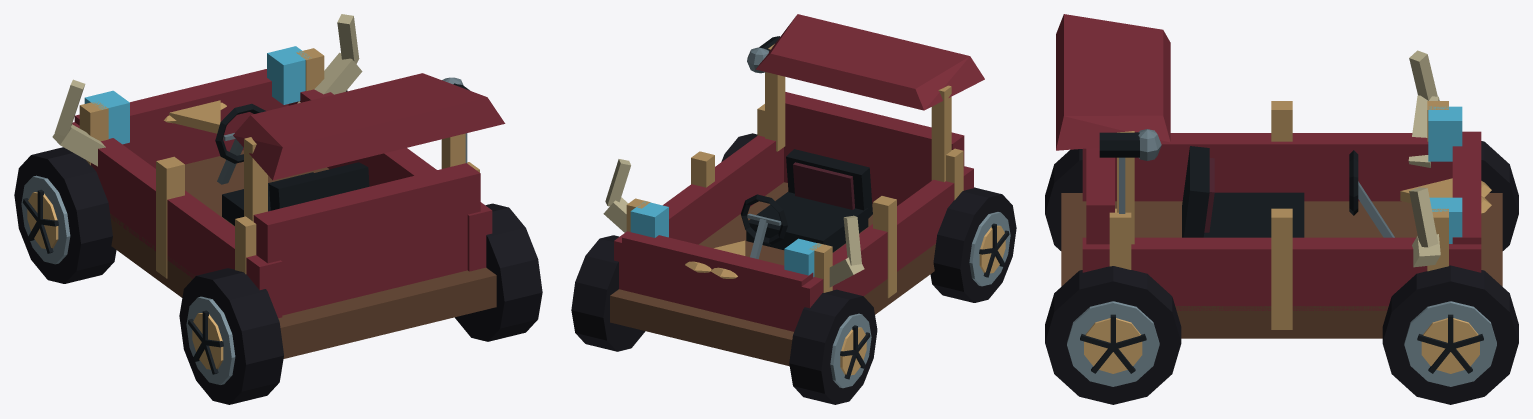
Rendered from kart.glb.
3 renders of one model, left to right at view 1: azimuth 30°, elevation 25°; view 2: azimuth 150°, elevation 25°; view 3: azimuth 270°, elevation 25°, orthographic. The views are drawn at different scales.
Visible parts, largest first — view 1: identity-carriage-carriage-timber-coach, wheel-rear-left, wheel-front-left, wheel-rear-right, identity-carriage-driver-cockpit, identity-carriage-motif-horns, identity-carriage-motif-heart; view 2: identity-carriage-carriage-timber-coach, identity-carriage-driver-cockpit, wheel-front-left, wheel-rear-left, wheel-front-right, identity-carriage-motif-horns, identity-carriage-motif-heart, identity-carriage-motif-microphone; view 3: identity-carriage-carriage-timber-coach, wheel-front-right, wheel-rear-right, identity-carriage-driver-cockpit, identity-carriage-motif-horns, wheel-rear-left, identity-carriage-motif-microphone, wheel-front-left, identity-carriage-motif-heart.
Boxes of the visible parts, <box> form: identity-carriage-carriage-timber-coach: <box>72,46,505,358</box>; wheel-rear-left: <box>179,268,283,404</box>; wheel-front-left: <box>14,147,116,283</box>; wheel-rear-right: <box>455,203,542,341</box>; identity-carriage-driver-cockpit: <box>215,103,369,225</box>; identity-carriage-motif-horns: <box>52,14,362,166</box>; identity-carriage-motif-heart: <box>164,100,226,133</box>; identity-carriage-carriage-timber-coach: <box>610,14,984,366</box>; identity-carriage-driver-cockpit: <box>741,149,872,259</box>; wheel-front-left: <box>789,289,877,404</box>; wheel-rear-left: <box>930,187,1016,302</box>; wheel-front-right: <box>571,235,645,351</box>; identity-carriage-motif-horns: <box>603,159,864,287</box>; identity-carriage-motif-heart: <box>685,240,745,278</box>; identity-carriage-motif-microphone: <box>747,36,779,73</box>; identity-carriage-carriage-timber-coach: <box>1056,14,1502,338</box>; wheel-front-right: <box>1382,265,1518,404</box>; wheel-rear-right: <box>1045,266,1181,404</box>; identity-carriage-driver-cockpit: <box>1182,146,1394,237</box>; identity-carriage-motif-horns: <box>1408,50,1440,267</box>; wheel-rear-left: <box>1045,149,1082,250</box>; identity-carriage-motif-microphone: <box>1099,129,1161,213</box>; wheel-front-left: <box>1481,141,1518,250</box>; identity-carriage-motif-heart: <box>1400,178,1491,214</box>.
Size of the model in its own units: 2.07 by 1.63 by 2.64.
